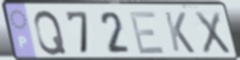2: (99, 11, 132, 55)
7: (64, 10, 91, 56)
E: (128, 10, 167, 56)
K: (162, 10, 197, 55)
Q: (33, 9, 69, 57)
X: (193, 9, 233, 56)
